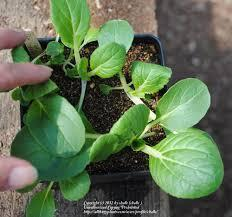Healthy-Pechay: (44, 3, 213, 113), (118, 83, 232, 199), (9, 73, 113, 197)
